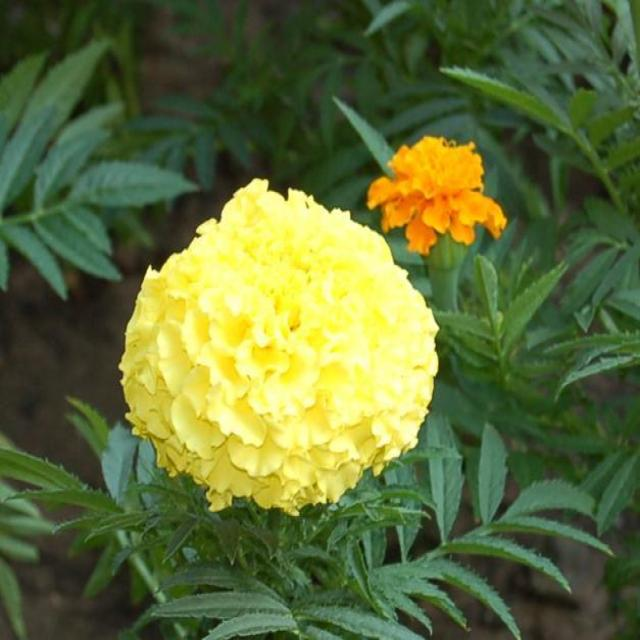marigold: (82, 121, 640, 565)
